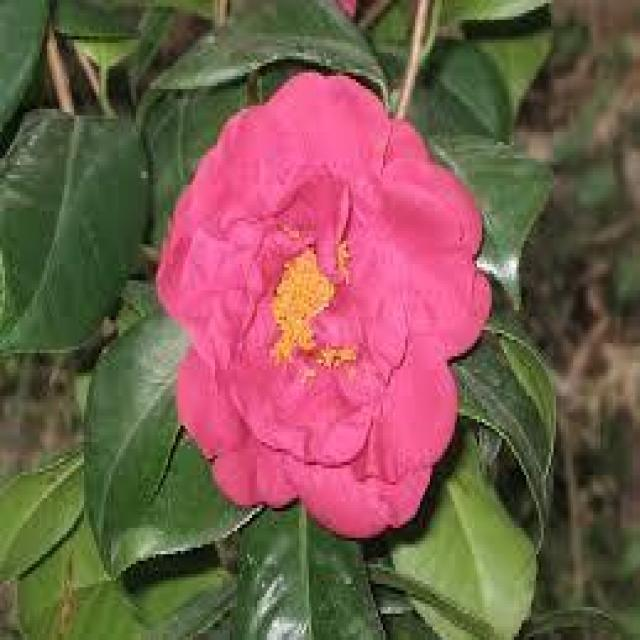organic waste: (161, 92, 494, 534)
